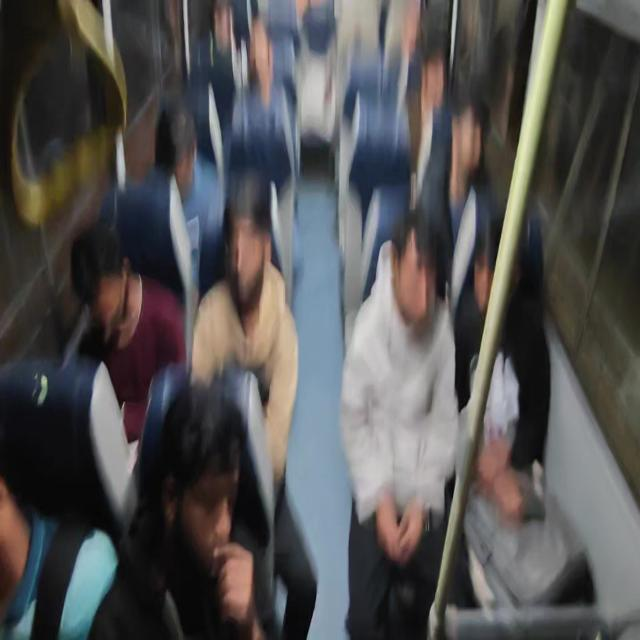person: (155, 383, 245, 597), (70, 218, 134, 340), (226, 171, 270, 309), (150, 91, 199, 208), (394, 195, 437, 320), (474, 204, 514, 316), (449, 90, 492, 188), (419, 33, 450, 122), (248, 23, 278, 80), (207, 0, 234, 60)
